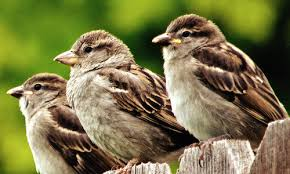hsparrow: (151, 9, 285, 151), (54, 24, 168, 174), (2, 67, 106, 174)
